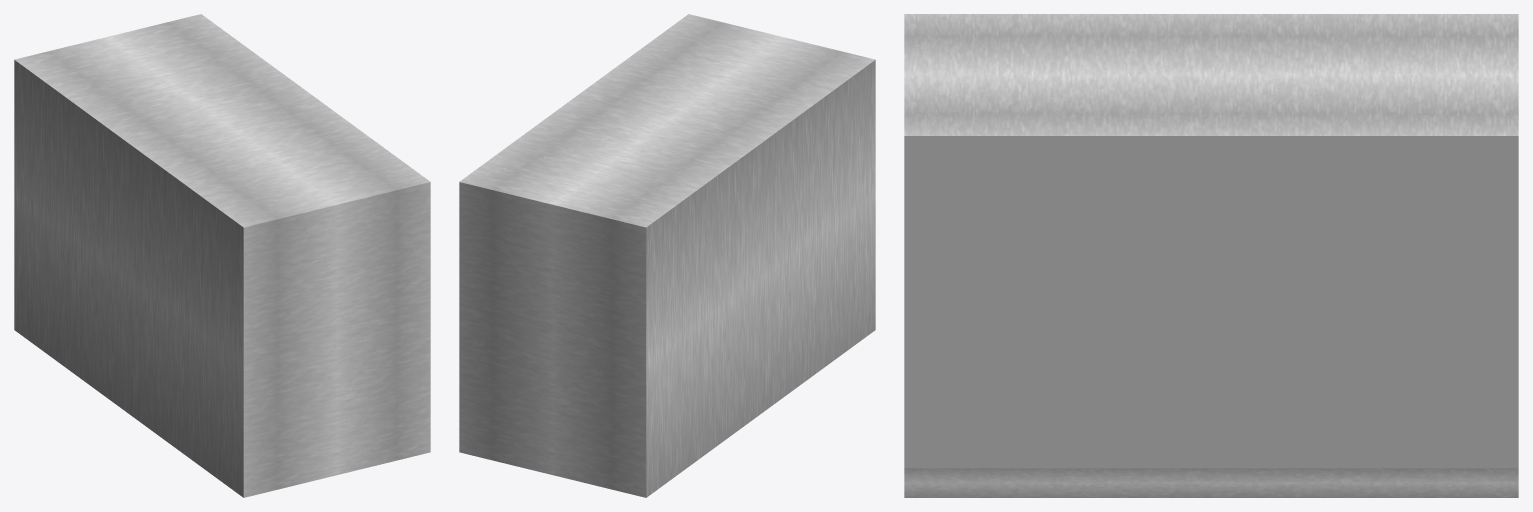
The model's file is Refrigenator.fbx.
3 renders of one model, left to right at view 1: azimuth 30°, elevation 25°; view 2: azimuth 150°, elevation 25°; view 3: azimuth 270°, elevation 25°, orthographic. The views are drawn at different scales.
Visible parts, largest first — view 1: Refrigenrator; view 2: Refrigenrator; view 3: Refrigenrator.
Boxes of the visible parts, x1,y1,x2,y2 form: Refrigenrator: [14, 14, 430, 497]; Refrigenrator: [459, 14, 875, 497]; Refrigenrator: [904, 14, 1518, 497].
Bounding box in the file's own units: 88.05 × 122 × 187.
